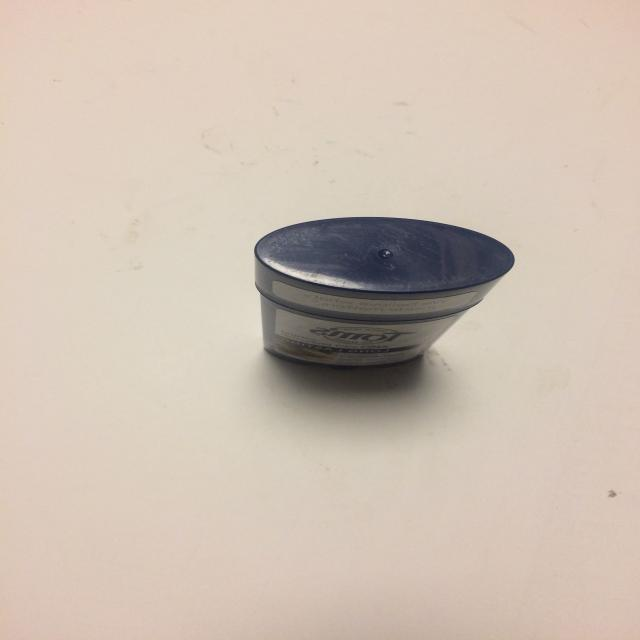trash: (253, 215, 516, 369)
